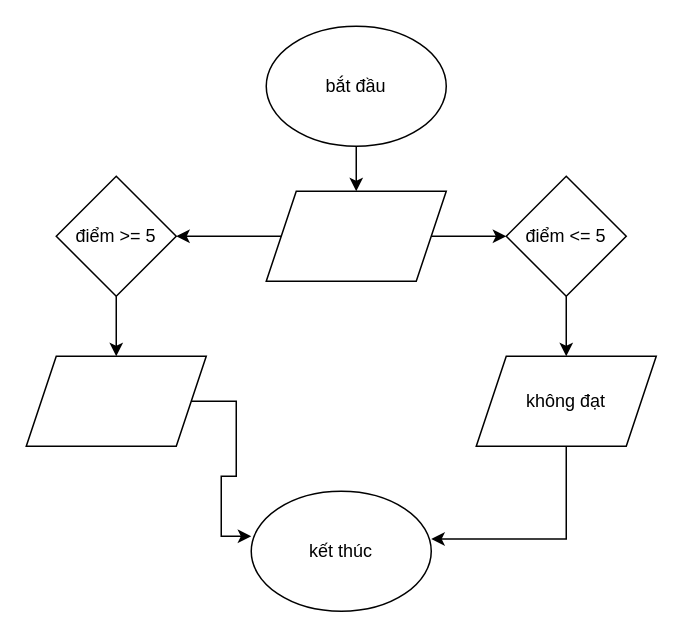
Some shapes in this 683 by 638 pixel diagram are drawn without their labels. Here are the shapes that lost their labels. From the top down, the centre of each, then its label:
the point at 355,235: nhập điểm
the point at 115,400: đạt
